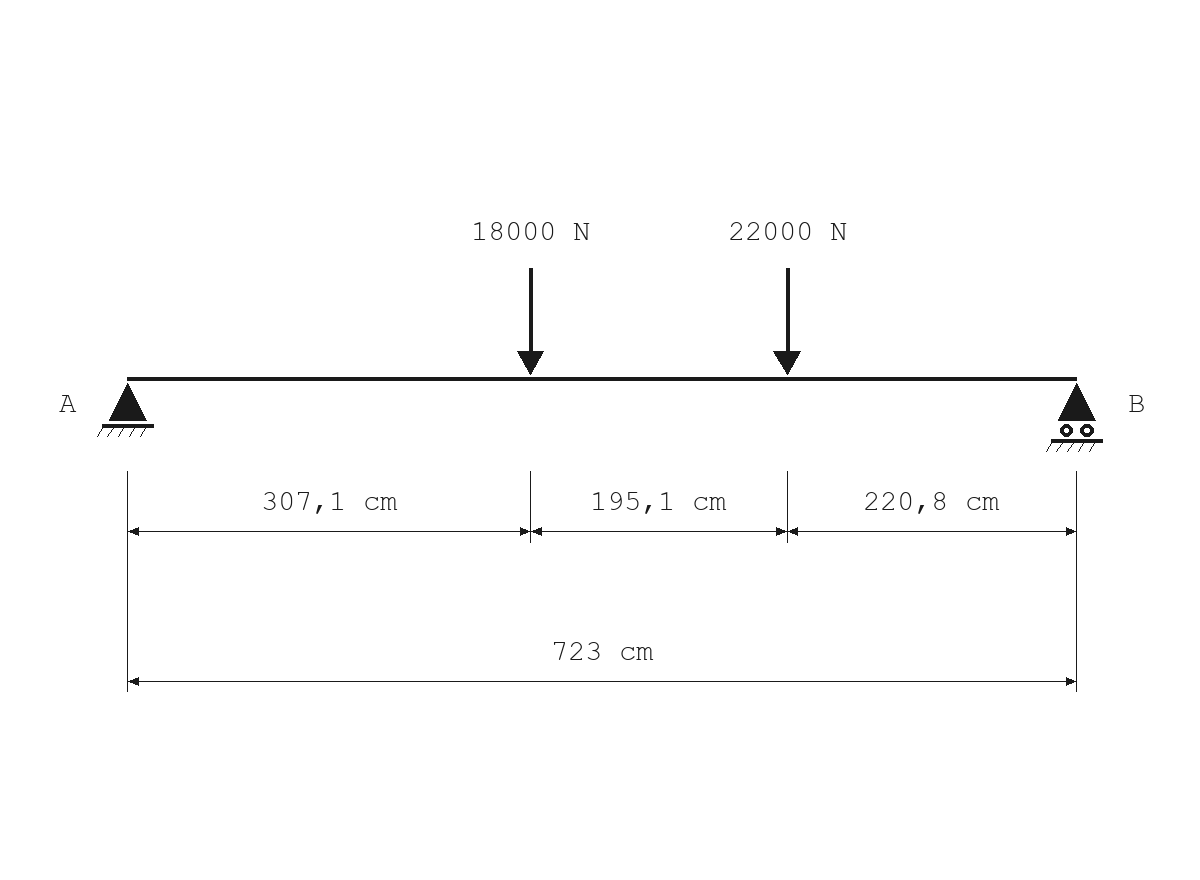pin_support: (97, 383, 154, 437)
point_load: (773, 268, 801, 375), (517, 268, 544, 375)
roller_support: (1046, 383, 1103, 452)
